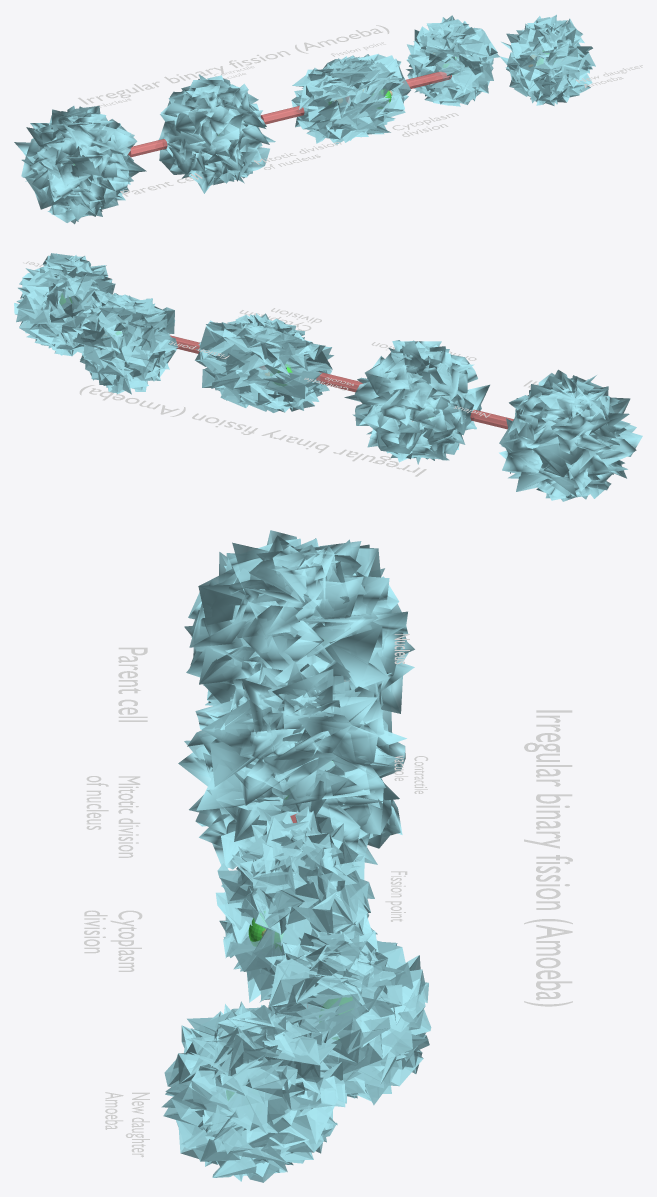
Rendered from Q2W6_amoeba_binary_fission.glb.
3 renders of one model, top to bottom at view 1: azimuth 30°, elevation 25°; view 2: azimuth 150°, elevation 25°; view 3: azimuth 270°, elevation 25°, orthographic. The views are drawn at different scales.
Parts seen in each view (by area): view 1: Amoeba, Amoeba.001, AmoebaDividing, DaughterAmoeba2, DaughterAmoeba1, Text, ArrowShaft.001, ArrowShaft.002, ArrowShaft, Text.007, Text.009; view 2: Amoeba, Amoeba.001, AmoebaDividing, DaughterAmoeba1, DaughterAmoeba2, Text, ArrowShaft.001, ArrowShaft; view 3: Amoeba.001, Amoeba, DaughterAmoeba2, DaughterAmoeba1, AmoebaDividing, Text, Text.007, Text.009.
Part boxes in pixels (x1,y1,x2,y2): Amoeba: (14,106,146,224); Amoeba.001: (158,74,275,193); AmoebaDividing: (291,54,410,144); DaughterAmoeba2: (500,14,595,105); DaughterAmoeba1: (406,15,499,106); Text: (78,25,389,104); ArrowShaft.001: (260,106,304,124); ArrowShaft.002: (402,71,451,88); ArrowShaft: (128,139,167,157); Text.007: (253,142,341,169); Text.009: (392,113,458,136); Amoeba: (499,369,642,501); Amoeba.001: (344,340,489,464); AmoebaDividing: (195,313,333,412); DaughterAmoeba1: (72,292,177,394); DaughterAmoeba2: (14,253,115,356); Text: (79,385,426,476); ArrowShaft.001: (316,372,362,392); ArrowShaft: (470,409,513,429); Amoeba.001: (178,661,406,869); Amoeba: (184,530,414,732); DaughterAmoeba2: (161,1001,345,1182); DaughterAmoeba1: (267,930,431,1105); AmoebaDividing: (215,806,377,1002); Text: (524,710,572,1006); Text.007: (86,776,140,857); Text.009: (84,910,142,971).
Size of the model in its own units: 10.02 by 1.65 by 3.69.
